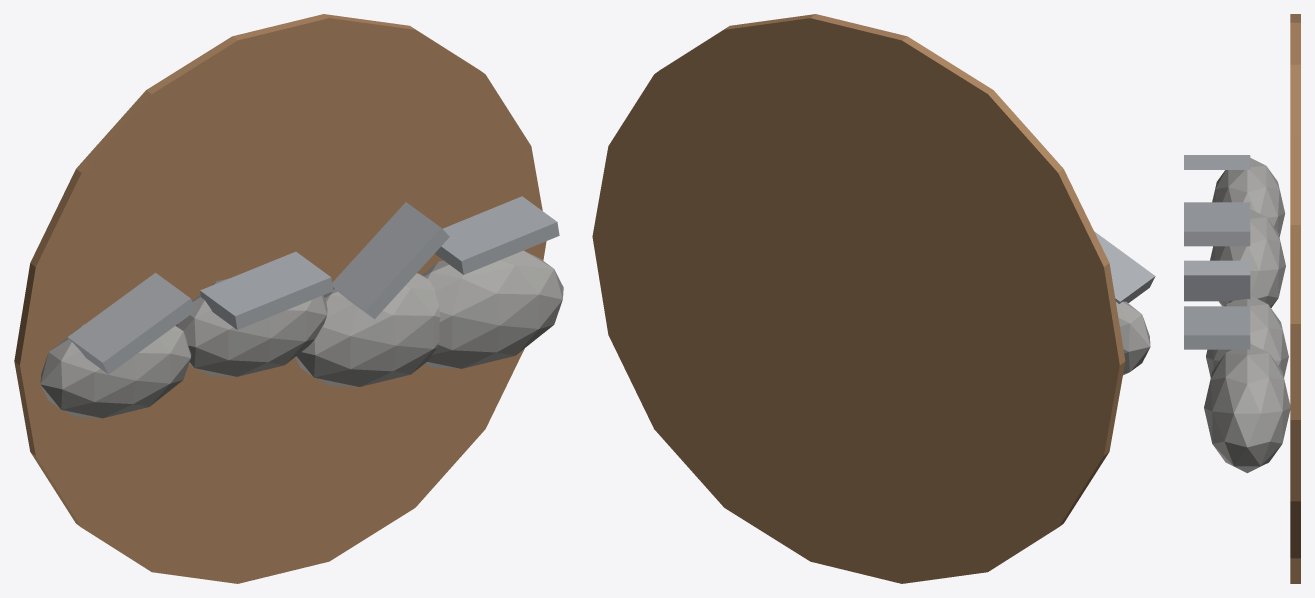
File: 02_local_prop_cluster.glb
3 views of the same model, side by side, from view 1: azimuth 30°, elevation 25°; view 2: azimuth 150°, elevation 25°; view 3: azimuth 270°, elevation 25° (orthographic). The views are drawn at different scales.
Parts seen in each view (by area): view 1: scatter_base, scrap_rock_3, scrap_rock_2, scrap_rock_0, scrap_rock_1, scrap_plate_2, scrap_plate_0, scrap_plate_1, scrap_plate_3; view 2: scatter_base, scrap_plate_0, scrap_rock_0; view 3: scrap_rock_3, scatter_base, scrap_rock_1, scrap_plate_1, scrap_plate_3, scrap_rock_0, scrap_plate_2, scrap_rock_2, scrap_plate_0.
Boxes of the visible parts, x1,y1,x2,y2 form: scatter_base: [14, 14, 546, 583]; scrap_rock_3: [422, 250, 563, 368]; scrap_rock_2: [295, 273, 440, 386]; scrap_rock_0: [40, 324, 191, 418]; scrap_rock_1: [176, 278, 327, 376]; scrap_plate_2: [332, 202, 449, 319]; scrap_plate_0: [67, 272, 196, 374]; scrap_plate_1: [200, 251, 333, 329]; scrap_plate_3: [434, 196, 559, 274]; scatter_base: [592, 14, 1125, 583]; scrap_plate_0: [1094, 231, 1155, 303]; scrap_rock_0: [1116, 301, 1150, 375]; scrap_rock_3: [1204, 344, 1290, 473]; scatter_base: [1290, 14, 1300, 583]; scrap_rock_1: [1210, 209, 1285, 307]; scrap_plate_1: [1184, 202, 1250, 246]; scrap_plate_3: [1184, 306, 1250, 349]; scrap_rock_0: [1212, 158, 1285, 236]; scrap_plate_2: [1184, 260, 1250, 301]; scrap_rock_2: [1206, 295, 1288, 377]; scrap_plate_0: [1184, 155, 1250, 169].
Size of the model in its own units: 1.91 by 1.87 by 0.3875.
